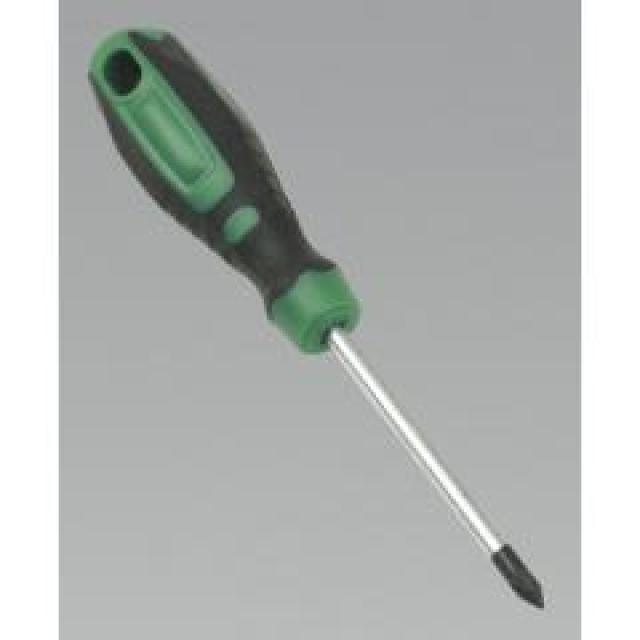Screwdriver: (90, 31, 542, 607)
